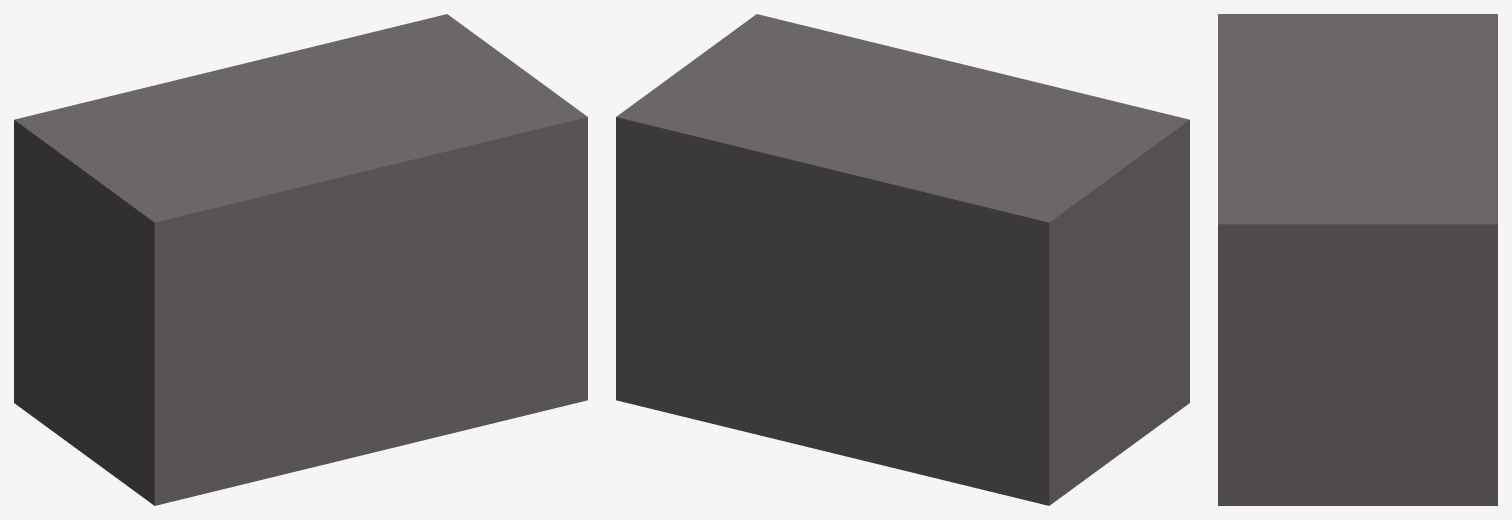
The model's file is rear_support__lower_link_tab_1.glb.
The picture shows the model from 3 angles, left to right: view 1: azimuth 30°, elevation 25°; view 2: azimuth 150°, elevation 25°; view 3: azimuth 270°, elevation 25°; orthographic projection.
Parts seen in each view (by area): view 1: world; view 2: world; view 3: world.
Boxes of the visible parts, left/top/right/bottom form: world: left=14, top=14, right=587, bottom=505; world: left=616, top=14, right=1189, bottom=505; world: left=1218, top=14, right=1497, bottom=505.
Bounding box in the file's own units: 0.032 × 0.02 × 0.018.
1 material, 1 textured.
